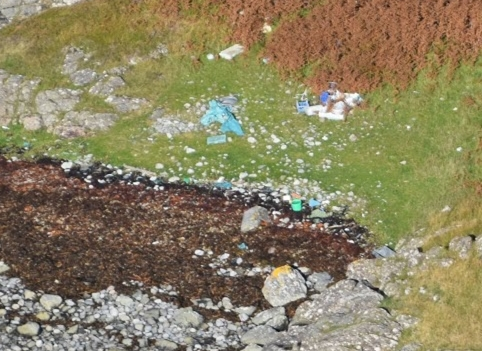cuboid: (199, 128, 232, 152)
net: (198, 96, 246, 139)
scattered_barrel: (198, 17, 278, 67)
together_barrel: (180, 172, 326, 213), (293, 79, 367, 124)
white_in_green: (222, 229, 262, 261)
